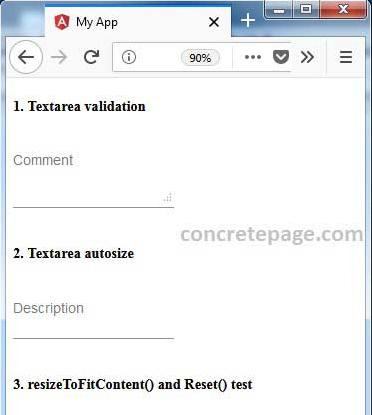field_line: (8, 153, 178, 212), (10, 296, 177, 341)
